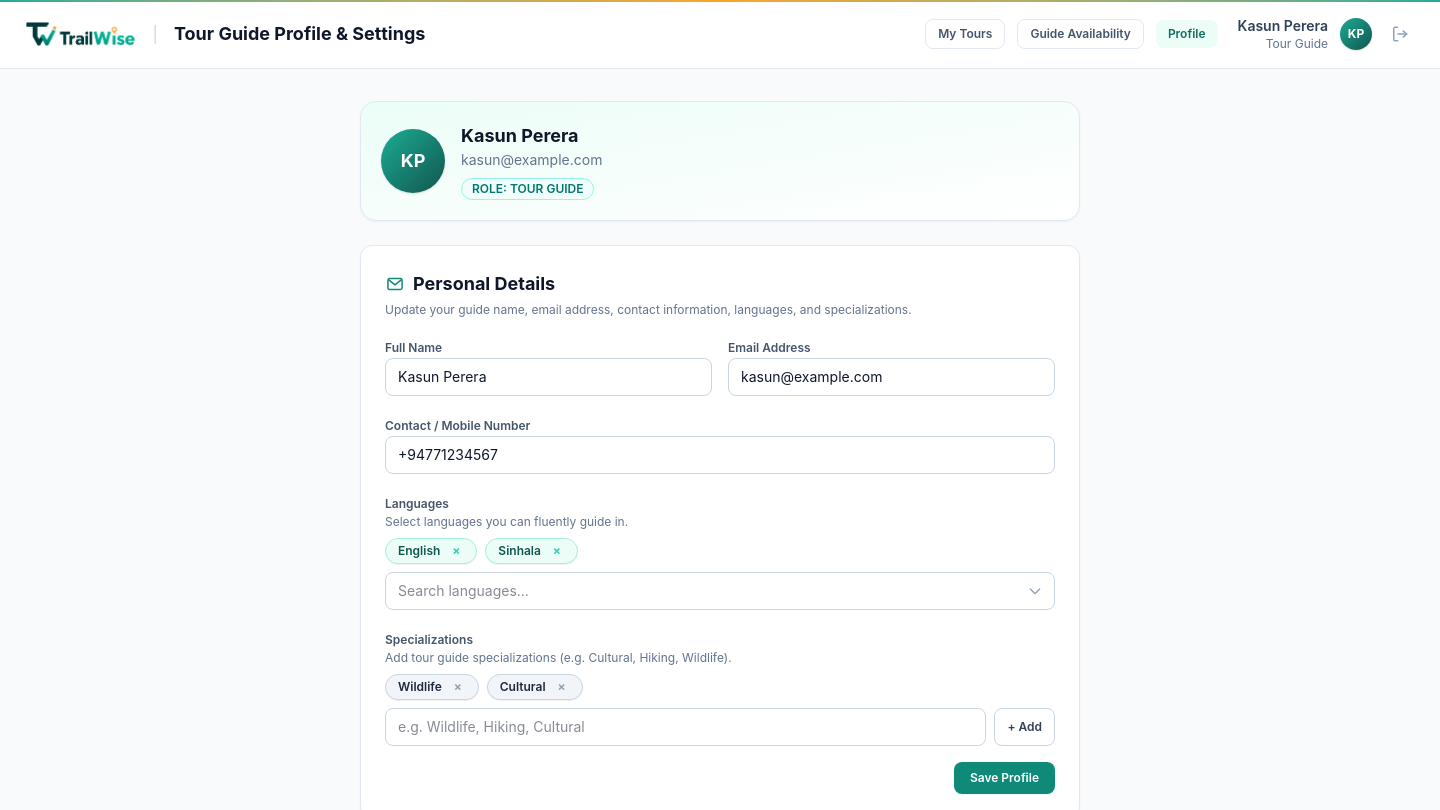
Test: GuideProfilePage › 8. removing chip works
Expected: the text "English" is shown, [398, 543, 440, 559]
Step 1. Click the button named "Remove English" → {"x": 456, "y": 551}, box [448, 543, 464, 559]
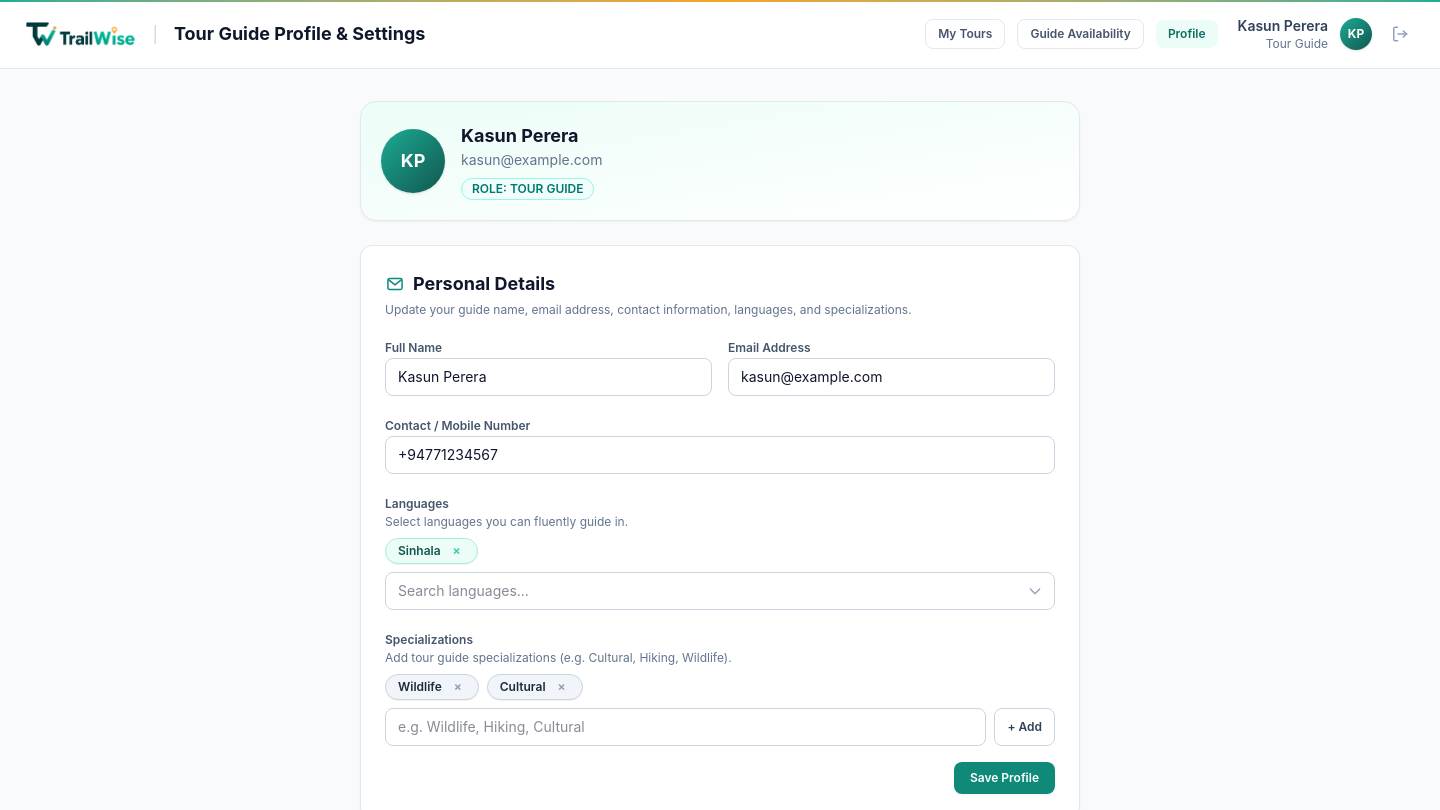
Expected: the element with test id "language-chips" shows "Sinhala", [398, 543, 441, 558]
Expected: the element with test id "language-chips" no longer shows "English", [385, 538, 478, 564]
